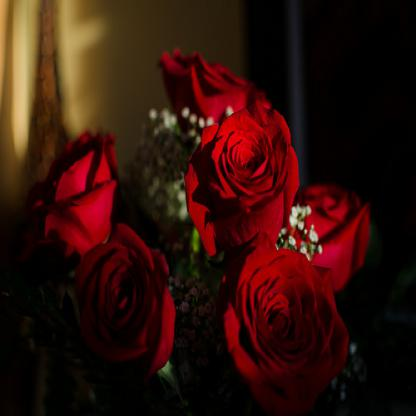ROSE-MAWAR: (23, 44, 376, 413)
